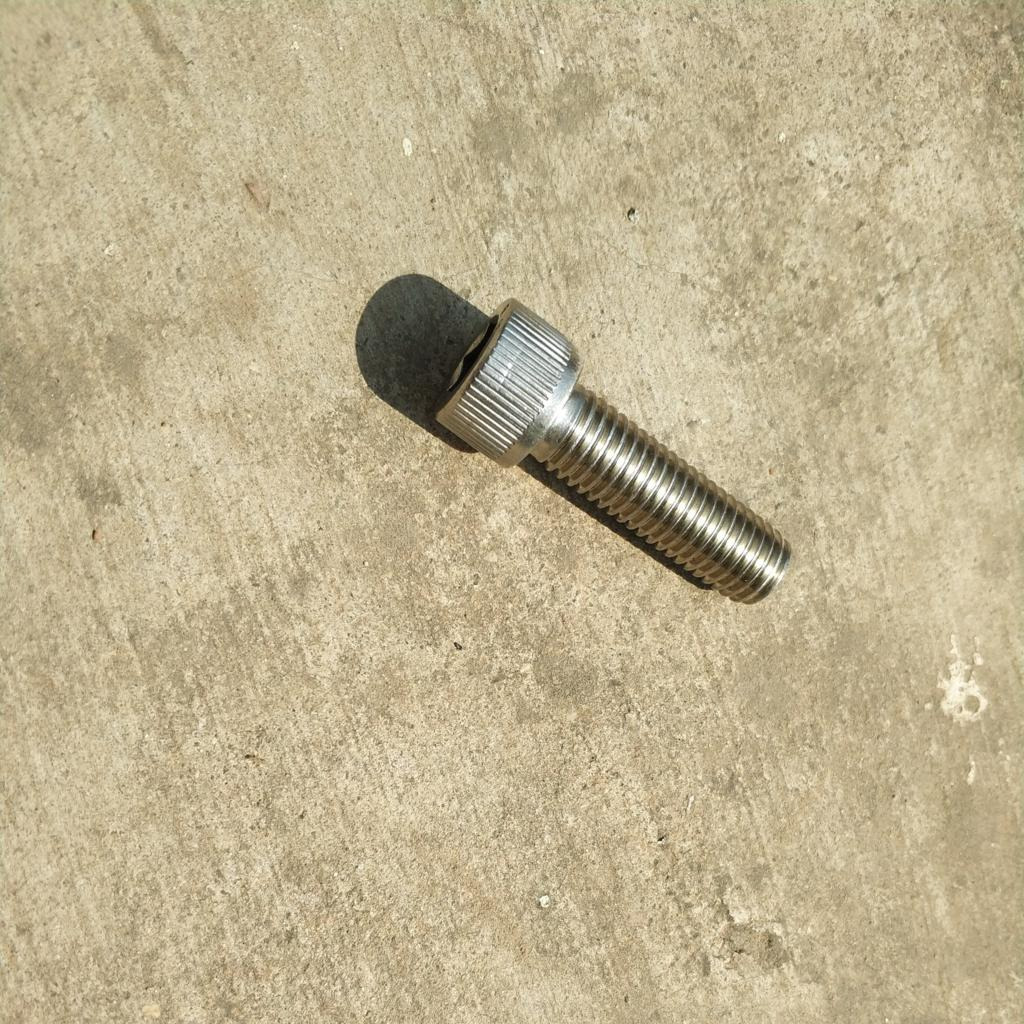screwtype1silver: (427, 294, 797, 616)
